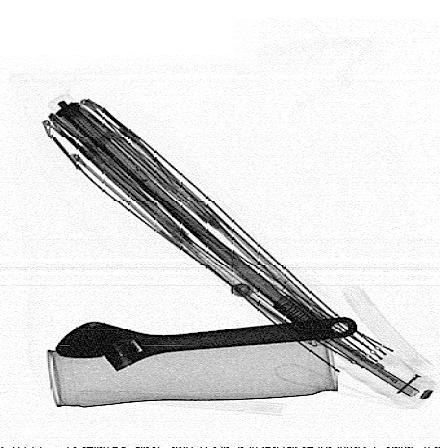Wrench: (54, 316, 360, 371)
